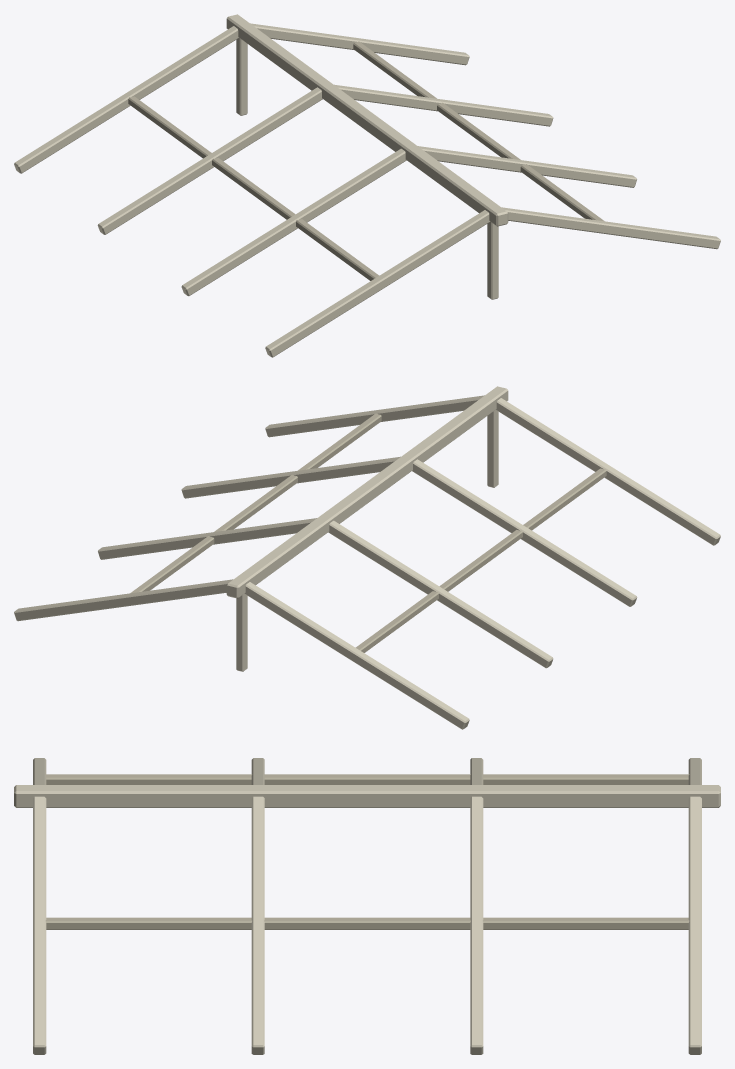
Rendered from greenhouse_roof.glb.
3 renders of one model, top to bottom at view 1: azimuth 30°, elevation 25°; view 2: azimuth 150°, elevation 25°; view 3: azimuth 270°, elevation 25°, orthographic. The views are drawn at different scales.
Parts seen in each view (by area): view 1: greenhouse_roof; view 2: greenhouse_roof; view 3: greenhouse_roof.
Boxes of the visible parts, bbox=[...] form: greenhouse_roof: bbox=[14, 14, 720, 357]; greenhouse_roof: bbox=[14, 386, 720, 729]; greenhouse_roof: bbox=[14, 758, 720, 1054].
Bounding box in the file's own units: 4.38 × 0.8905 × 4.55.
